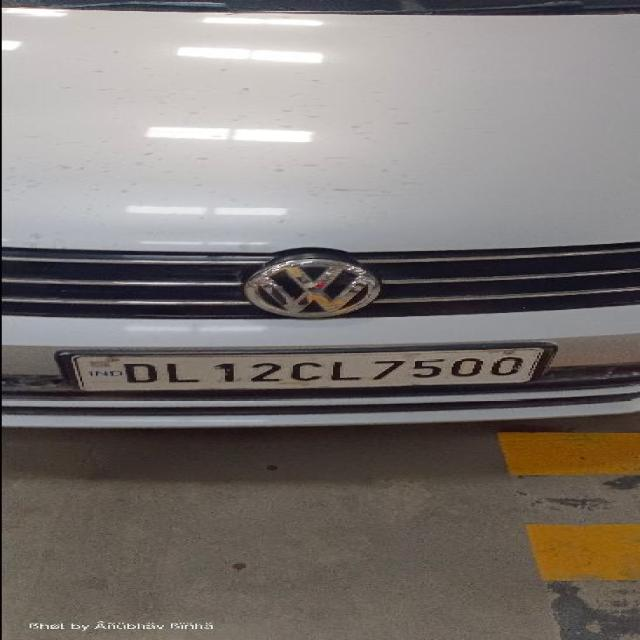license_plate: (52, 340, 558, 392)
